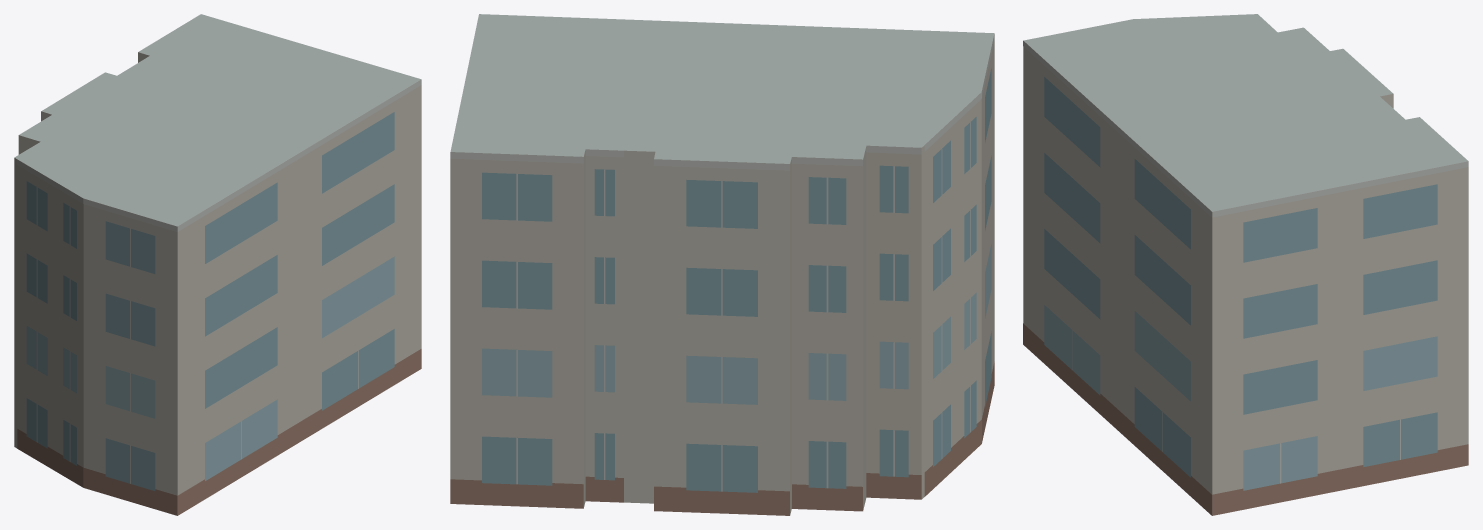
File: survey-upis-33002952.glb
3 renders of one model, left to right at view 1: azimuth 30°, elevation 25°; view 2: azimuth 150°, elevation 25°; view 3: azimuth 270°, elevation 25°, orthographic. The views are drawn at different scales.
Parts seen in each view (by area): view 1: survey-upis-33002952.tmp; view 2: survey-upis-33002952.tmp; view 3: survey-upis-33002952.tmp.
Part boxes in pixels (left/top/right/bottom): survey-upis-33002952.tmp: left=14, top=14, right=421, bottom=515; survey-upis-33002952.tmp: left=450, top=14, right=994, bottom=515; survey-upis-33002952.tmp: left=1023, top=14, right=1468, bottom=515.
Bounding box in the file's own units: 17.86 × 12.8 × 17.
